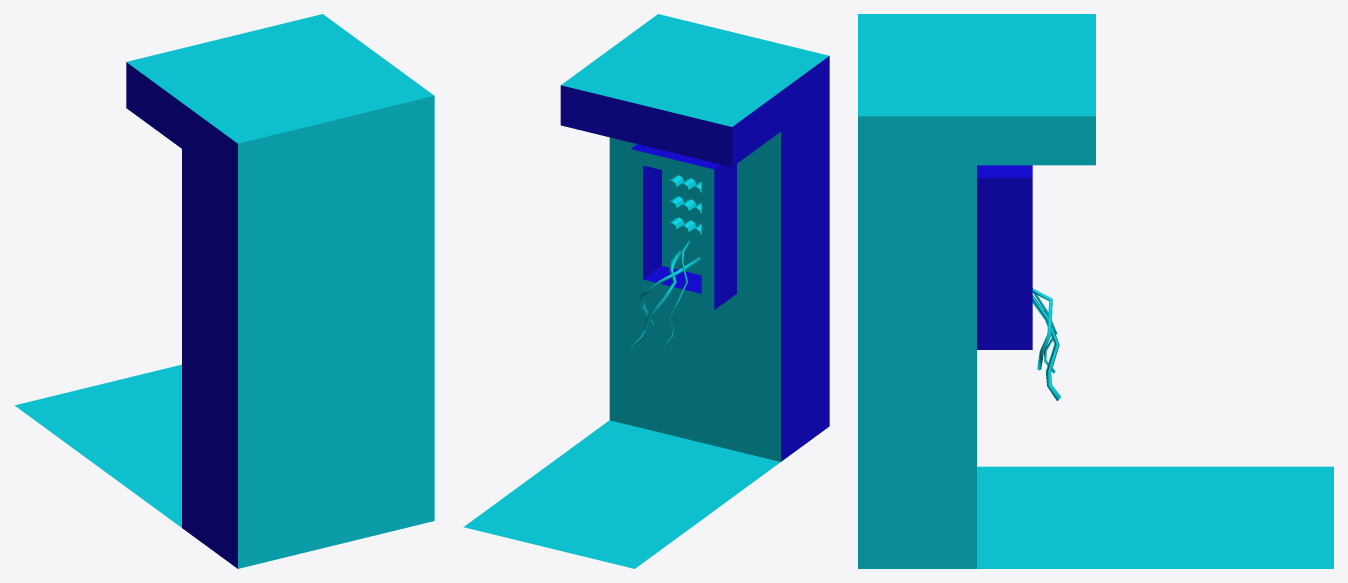
The model's file is Electric_1T_side.fbx.
3 views of the same model, side by side, from view 1: azimuth 30°, elevation 25°; view 2: azimuth 150°, elevation 25°; view 3: azimuth 270°, elevation 25° (orthographic). The views are drawn at different scales.
Parts seen in each view (by area): view 1: Electric_1T_side; view 2: Electric_1T_side; view 3: Electric_1T_side.
Boxes of the visible parts, x1,y1,x2,y2 form: Electric_1T_side: (15, 14, 434, 568); Electric_1T_side: (463, 14, 829, 568); Electric_1T_side: (858, 14, 1333, 568).
Size of the model in its own units: 0.9677 by 1.9 by 2.
